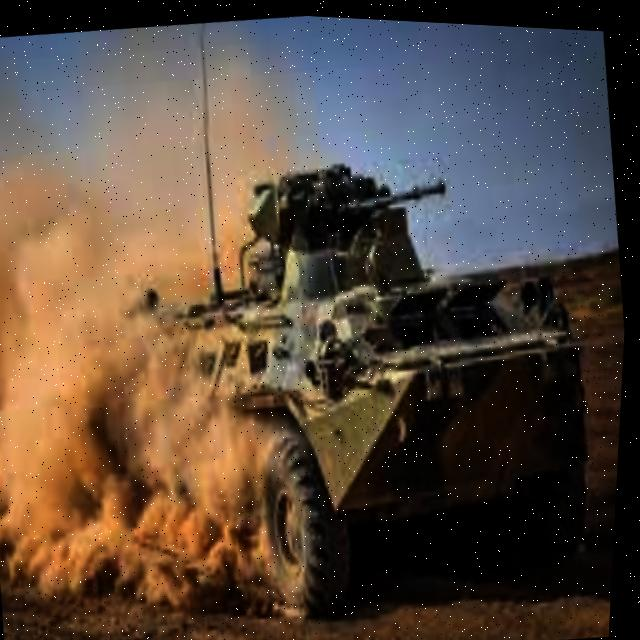MIL_APC: (87, 105, 636, 640)
